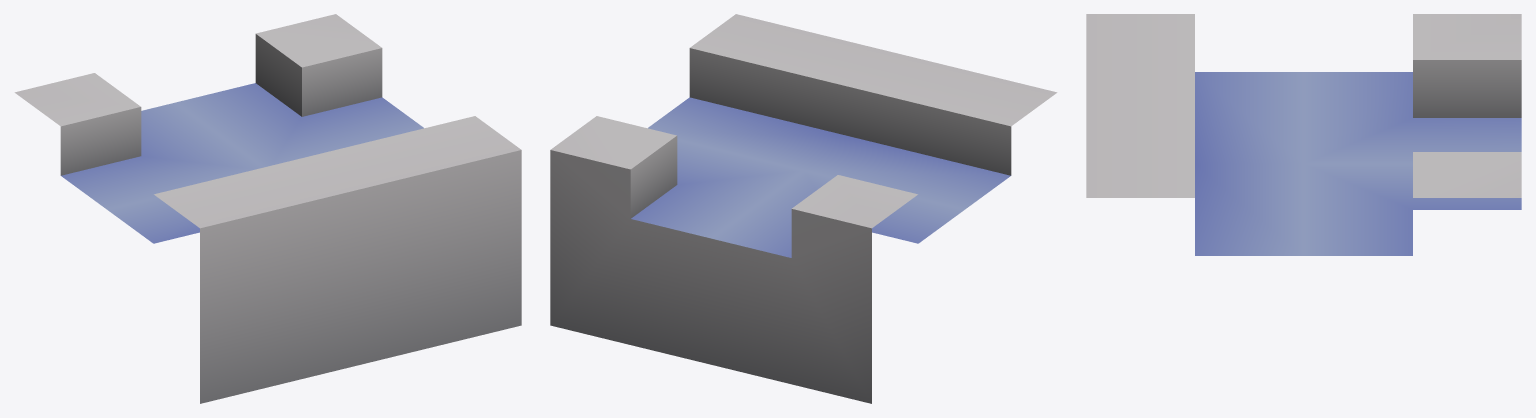
Rendered from river_03.glb.
3 renders of one model, left to right at view 1: azimuth 30°, elevation 25°; view 2: azimuth 150°, elevation 25°; view 3: azimuth 270°, elevation 25°, orthographic. The views are drawn at different scales.
Visible parts, largest first — view 1: river_03; view 2: river_03; view 3: river_03.
Part boxes in pixels (x1,y1,x2,y2): river_03: (14, 14, 521, 403); river_03: (550, 14, 1057, 403); river_03: (1086, 14, 1521, 255).
Size of the model in its own units: 2 by 1.04 by 2.
